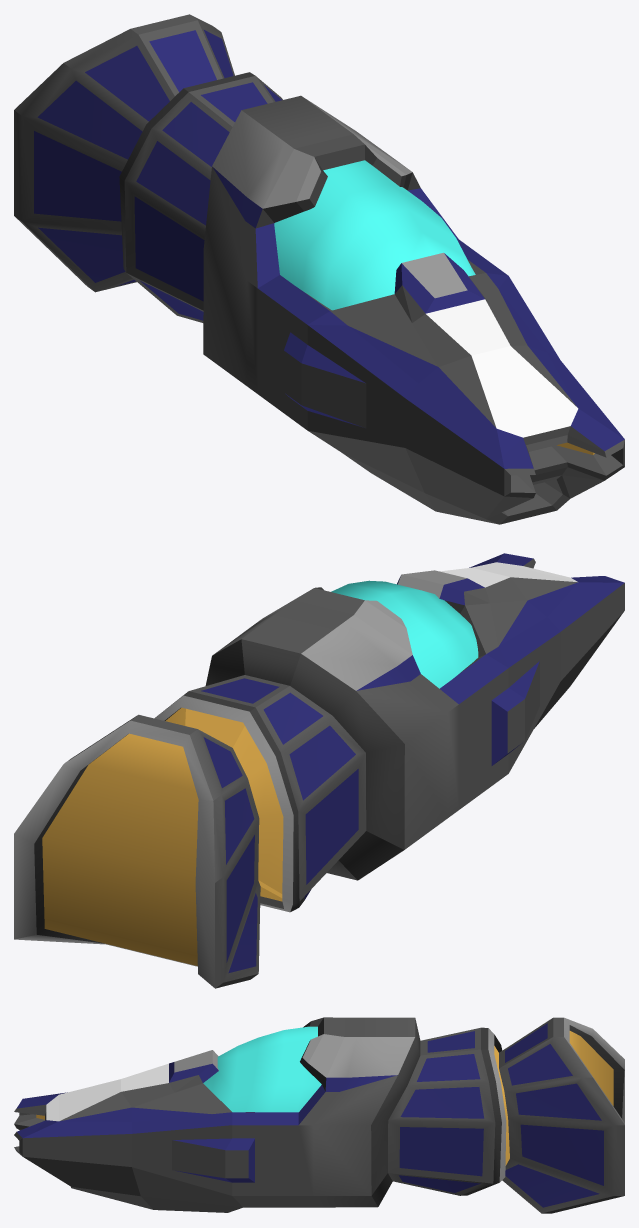
Rendered from Ship_1x3_C1.fbx.
The picture shows the model from 3 angles, top to bottom: view 1: azimuth 30°, elevation 25°; view 2: azimuth 150°, elevation 25°; view 3: azimuth 270°, elevation 25°; orthographic projection. The views are drawn at different scales.
Visible parts, largest first — view 1: Ship_1x3_C1; view 2: Ship_1x3_C1; view 3: Ship_1x3_C1.
Part boxes in pixels (x1,y1,x2,y2): Ship_1x3_C1: (14, 14, 624, 524); Ship_1x3_C1: (14, 553, 624, 988); Ship_1x3_C1: (14, 1017, 624, 1213).
Bounding box in the file's own units: 75.18 × 83.52 × 266.
